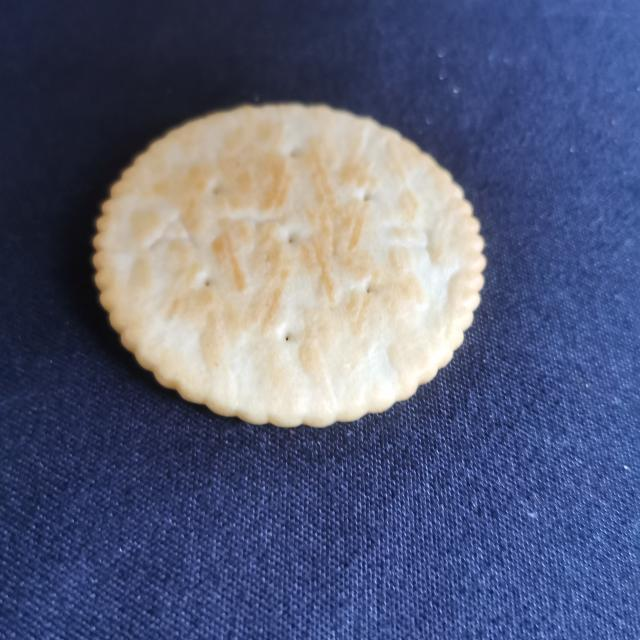Intact: (81, 89, 495, 436)
